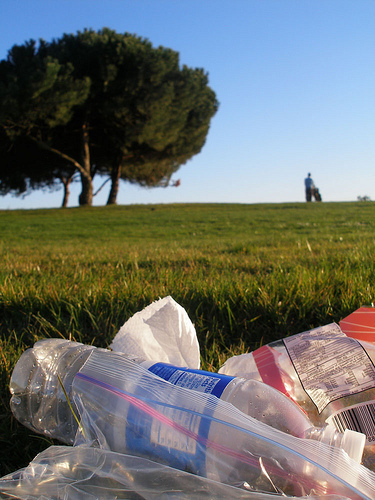litter: (3, 298, 371, 484)
